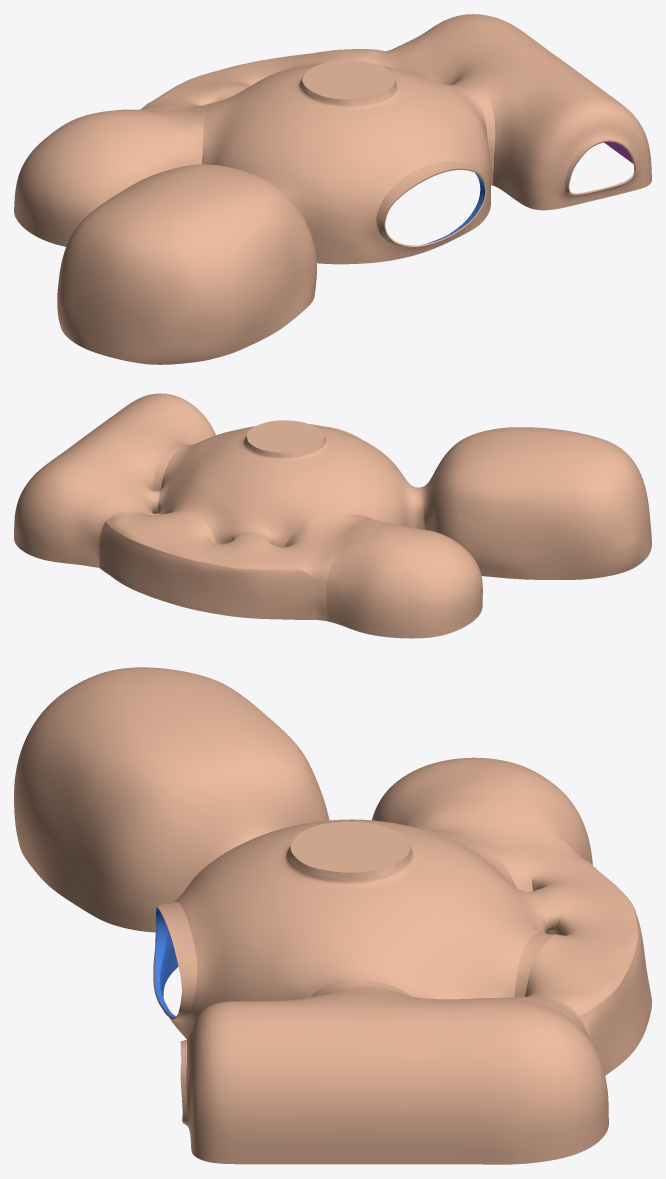
File: casaFinal.fbx
3 views of the same model, one above another, from view 1: azimuth 30°, elevation 25°; view 2: azimuth 150°, elevation 25°; view 3: azimuth 270°, elevation 25° (orthographic). The views are drawn at different scales.
Parts seen in each view (by area): view 1: casaRetopoDefUves; view 2: casaRetopoDefUves; view 3: casaRetopoDefUves.
Boxes of the visible parts, x1,y1,x2,y2 form: casaRetopoDefUves: (14, 14, 651, 364); casaRetopoDefUves: (14, 393, 651, 638); casaRetopoDefUves: (14, 667, 651, 1164).
Bounding box in the file's own units: 2708 × 523 × 1902.
